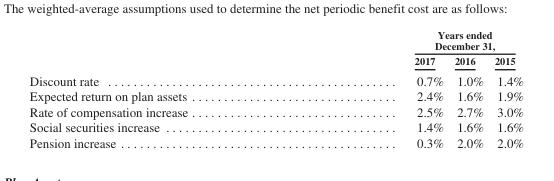table: (28, 28, 523, 149)
table column: (28, 28, 300, 149), (300, 28, 448, 149), (448, 28, 488, 149), (488, 28, 523, 149)
table column header: (28, 28, 523, 69)
table row: (28, 28, 523, 52), (28, 69, 523, 88), (28, 52, 523, 69), (28, 103, 523, 119), (28, 88, 523, 103), (28, 119, 523, 134), (28, 134, 523, 149)
table spanning cell: (300, 28, 523, 52)
